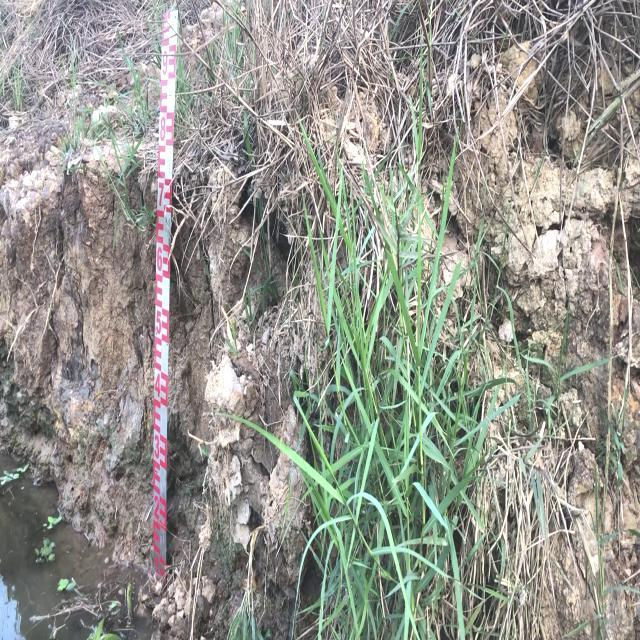ruler: (140, 2, 186, 595)
value: (160, 46, 169, 79), (153, 372, 163, 400), (152, 494, 162, 522), (153, 432, 162, 462), (159, 112, 167, 144), (155, 308, 163, 338), (151, 552, 161, 576), (157, 178, 164, 210), (156, 242, 163, 274)
